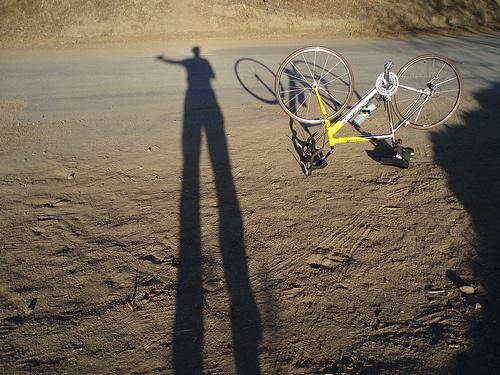car: (263, 39, 469, 181)
